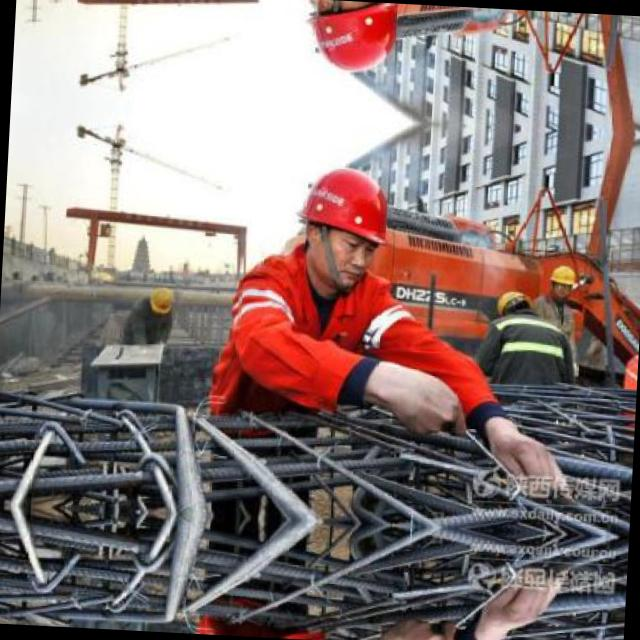helmet: (286, 152, 398, 298), (295, 0, 406, 86), (489, 284, 532, 317), (547, 262, 578, 298), (147, 282, 175, 313)
